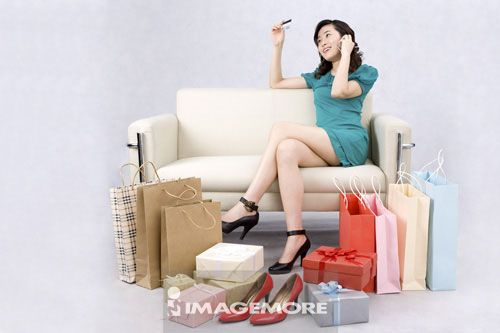talk: (317, 30, 355, 62)
